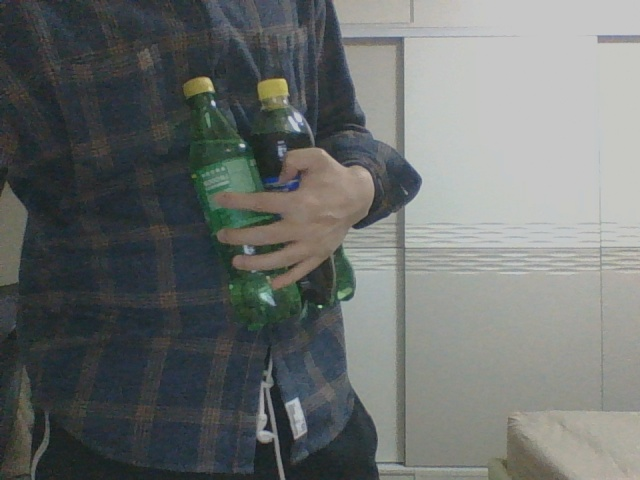Cola: (252, 76, 316, 191)
Sprite: (182, 75, 303, 331)
